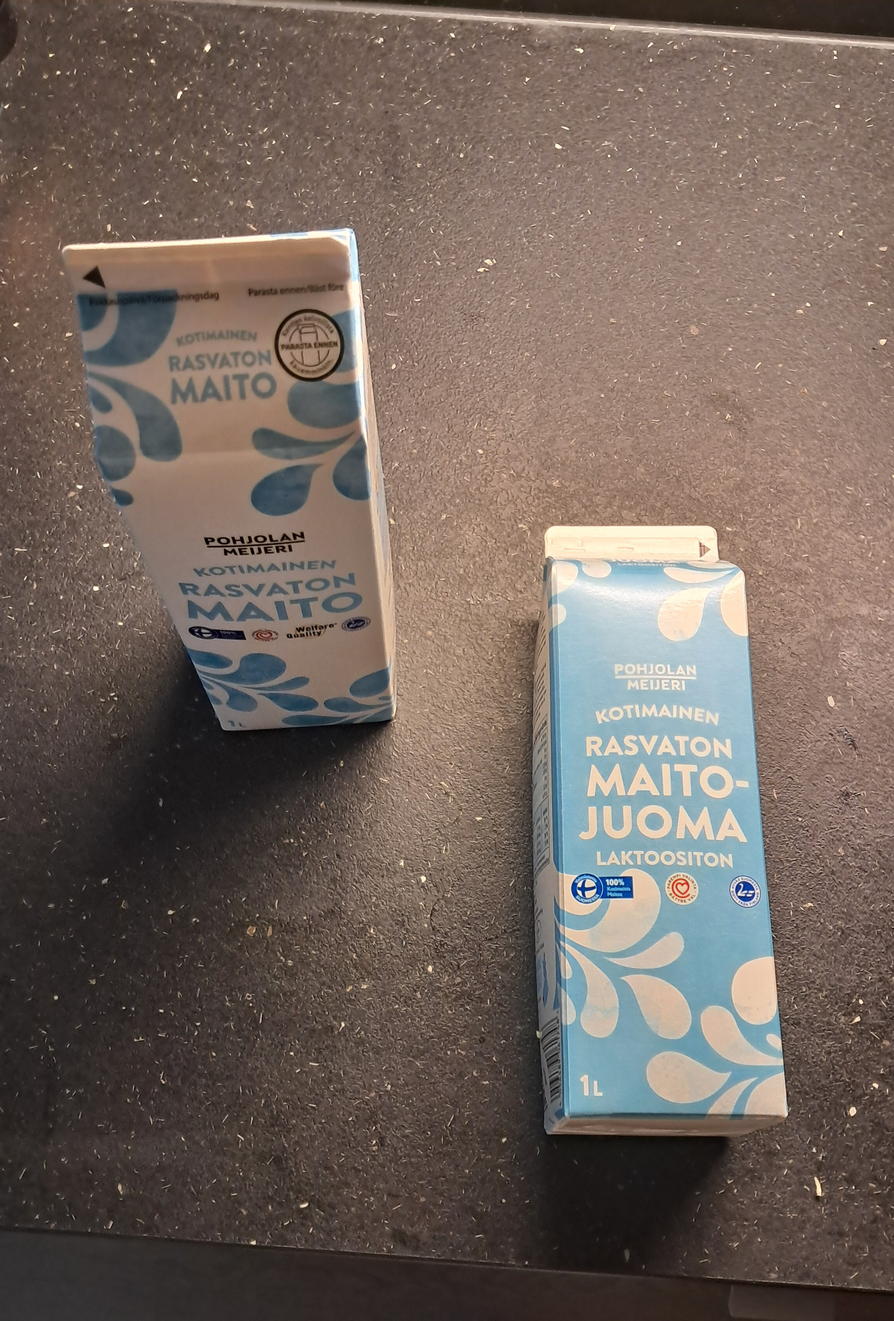Dryckeskartong: (59, 226, 400, 730), (526, 524, 794, 1142)
